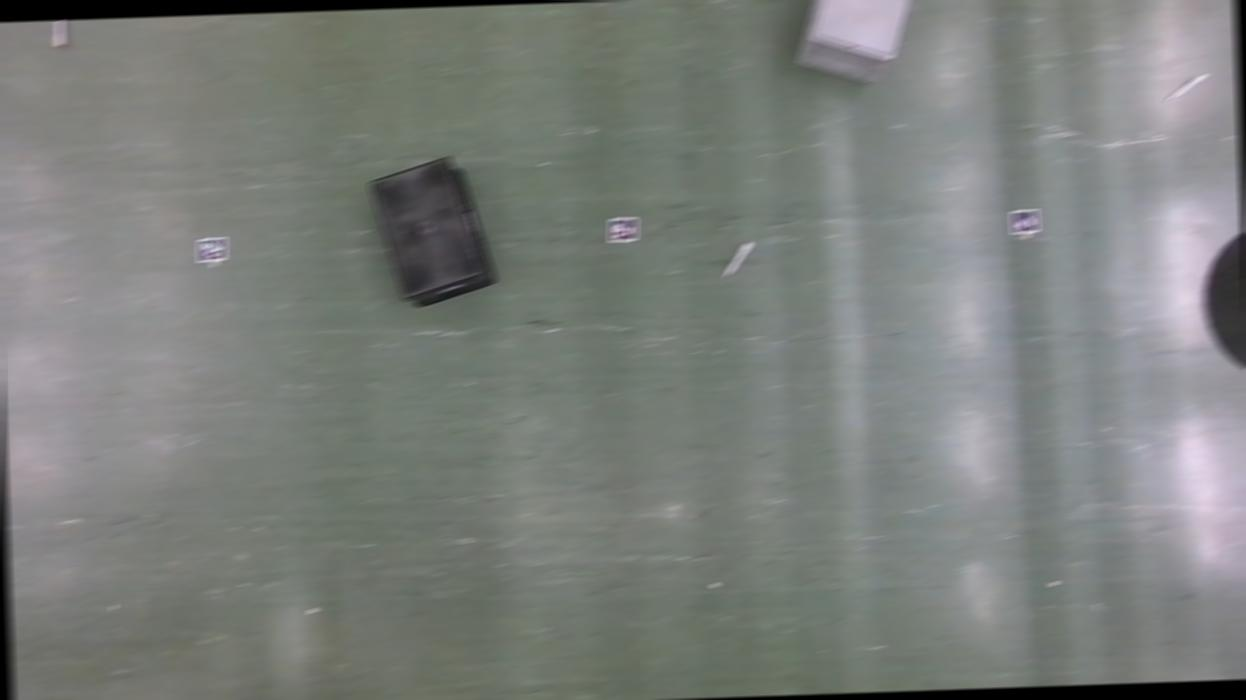probes: (1166, 74, 1206, 102), (723, 242, 750, 279), (52, 20, 66, 46)
rako: (368, 156, 498, 311), (792, 0, 919, 87)
